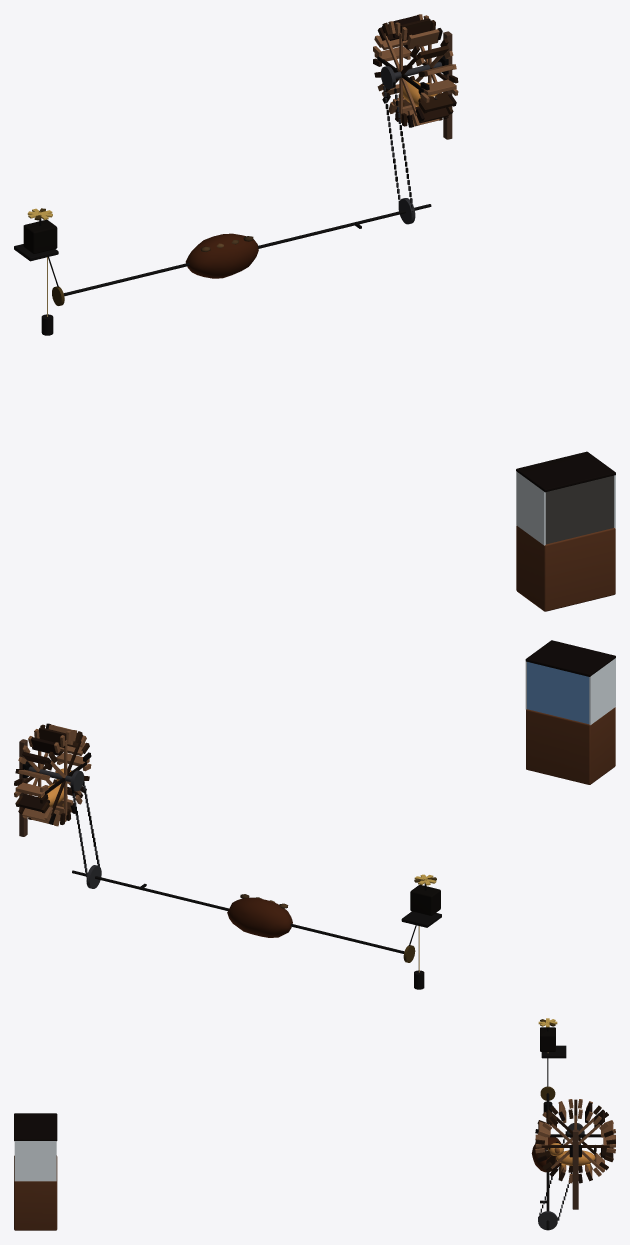
The model's file is mech.glb.
3 views of the same model, one above another, from view 1: azimuth 30°, elevation 25°; view 2: azimuth 150°, elevation 25°; view 3: azimuth 270°, elevation 25° (orthographic). The views are drawn at different scales.
Visible parts, largest first — view 1: anim-case@plinth, anim-wheel@s0, anim-spit@rod, anim-jack-box; view 2: anim-case@plinth, anim-wheel@s0, anim-spit@rod, anim-jack-box; view 3: anim-case@plinth, anim-wheel@s0, anim-spit@rod, mech.bark.1, anim-dog@body, anim-jack-box.
Part boxes in pixels (x1=…): anim-case@plinth: x1=516, y1=451, x2=615, y2=611; anim-wheel@s0: x1=373, y1=14, x2=458, y2=127; anim-spit@rod: x1=63, y1=198, x2=431, y2=296; anim-jack-box: x1=23, y1=219, x2=57, y2=253; anim-case@plinth: x1=525, y1=640, x2=615, y2=784; anim-wheel@s0: x1=14, y1=723, x2=91, y2=826; anim-spit@rod: x1=72, y1=865, x2=404, y2=953; anim-jack-box: x1=410, y1=885, x2=440, y2=915; anim-case@plinth: x1=14, y1=1113, x2=57, y2=1230; anim-wheel@s0: x1=535, y1=1099, x2=615, y2=1183; anim-spit@rod: x1=531, y1=1093, x2=563, y2=1230; mech.bark.1: x1=572, y1=1129, x2=578, y2=1209; anim-dog@body: x1=545, y1=1141, x2=596, y2=1165; anim-jack-box: x1=540, y1=1027, x2=555, y2=1051.
Bounding box in the file's own units: 6.19 × 3.4 × 9.75.
